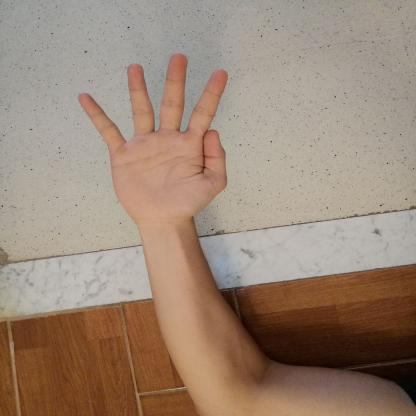SHEEN: (67, 49, 244, 230)
